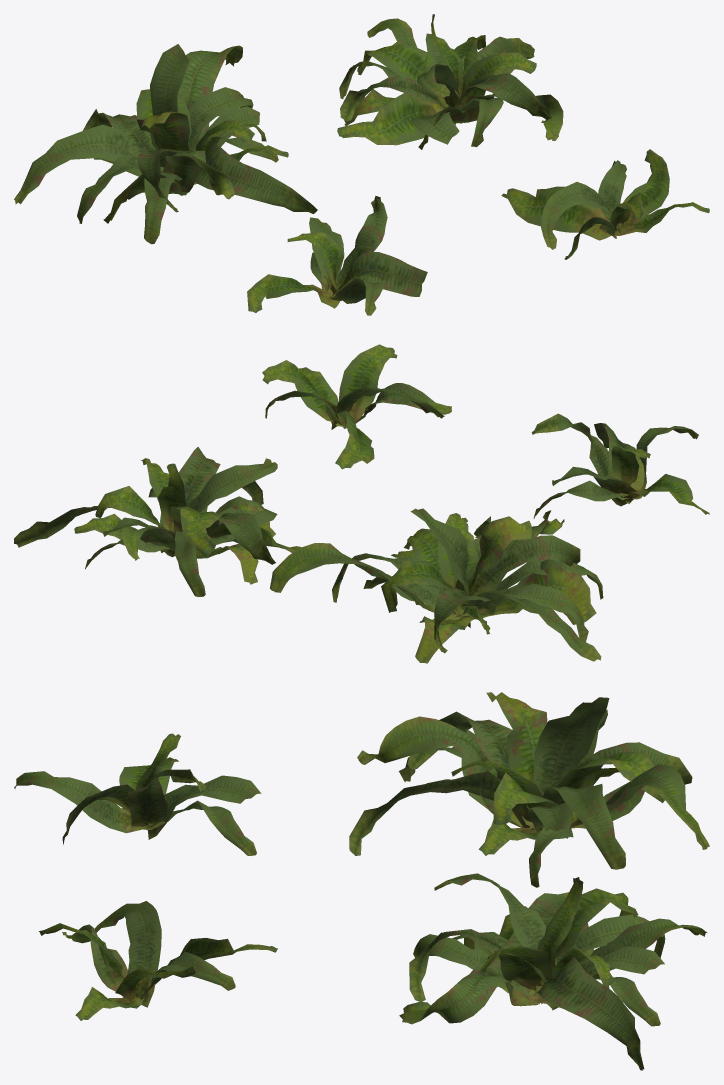
The model's file is fern_02.glb.
3 renders of one model, top to bottom at view 1: azimuth 30°, elevation 25°; view 2: azimuth 150°, elevation 25°; view 3: azimuth 270°, elevation 25°, orthographic. The views are drawn at different scales.
Visible parts, largest first — view 1: fern_02_b, fern_02_c, fern_02_d, fern_02_a; view 2: fern_02_b, fern_02_c, fern_02_d, fern_02_a; view 3: fern_02_b, fern_02_c, fern_02_a, fern_02_d.
Part boxes in pixels (x1,y1,x2,y2): fern_02_b: (14,44,317,244); fern_02_c: (337,14,563,149); fern_02_d: (501,149,709,259); fern_02_a: (247,196,427,315); fern_02_b: (270,508,603,663); fern_02_c: (14,447,301,596); fern_02_d: (262,344,451,469); fern_02_a: (531,413,709,518); fern_02_b: (349,692,709,887); fern_02_c: (399,873,707,1070); fern_02_a: (14,733,261,855); fern_02_d: (39,901,277,1020).
Size of the model in its own units: 1.97 by 0.4277 by 1.72.
Materials: 1 (1 with a texture image).
